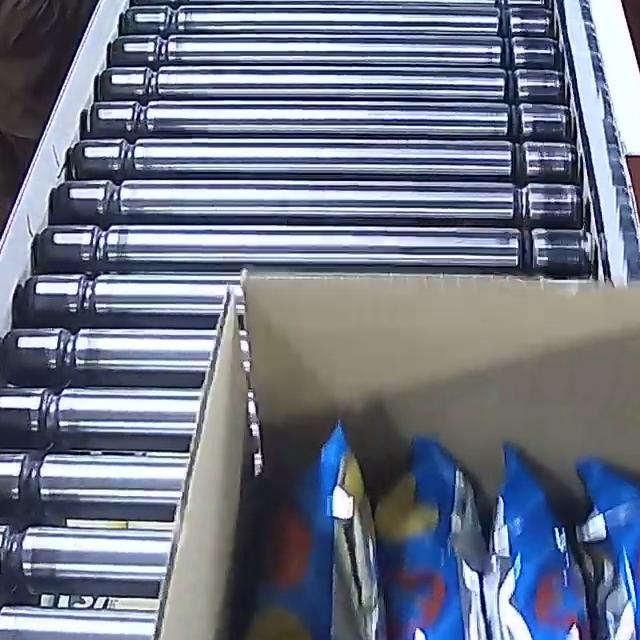paprika: (270, 420, 640, 640)
